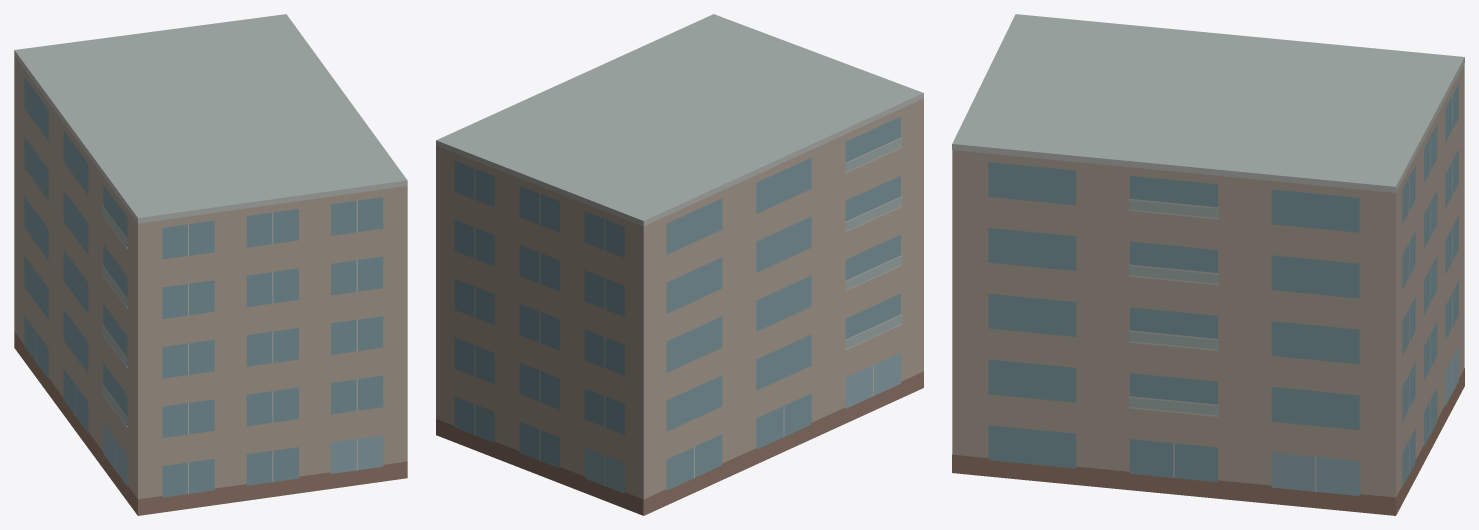
The model's file is survey-upis-32477446.glb.
3 renders of one model, left to right at view 1: azimuth 30°, elevation 25°; view 2: azimuth 150°, elevation 25°; view 3: azimuth 270°, elevation 25°, orthographic. The views are drawn at different scales.
Parts seen in each view (by area): view 1: survey-upis-32477446.tmp; view 2: survey-upis-32477446.tmp; view 3: survey-upis-32477446.tmp.
Boxes of the visible parts, <box> form: survey-upis-32477446.tmp: <box>14,14,407,515</box>; survey-upis-32477446.tmp: <box>436,14,923,515</box>; survey-upis-32477446.tmp: <box>952,14,1464,515</box>.
Bounding box in the file's own units: 14.88 × 13.2 × 18.65.
